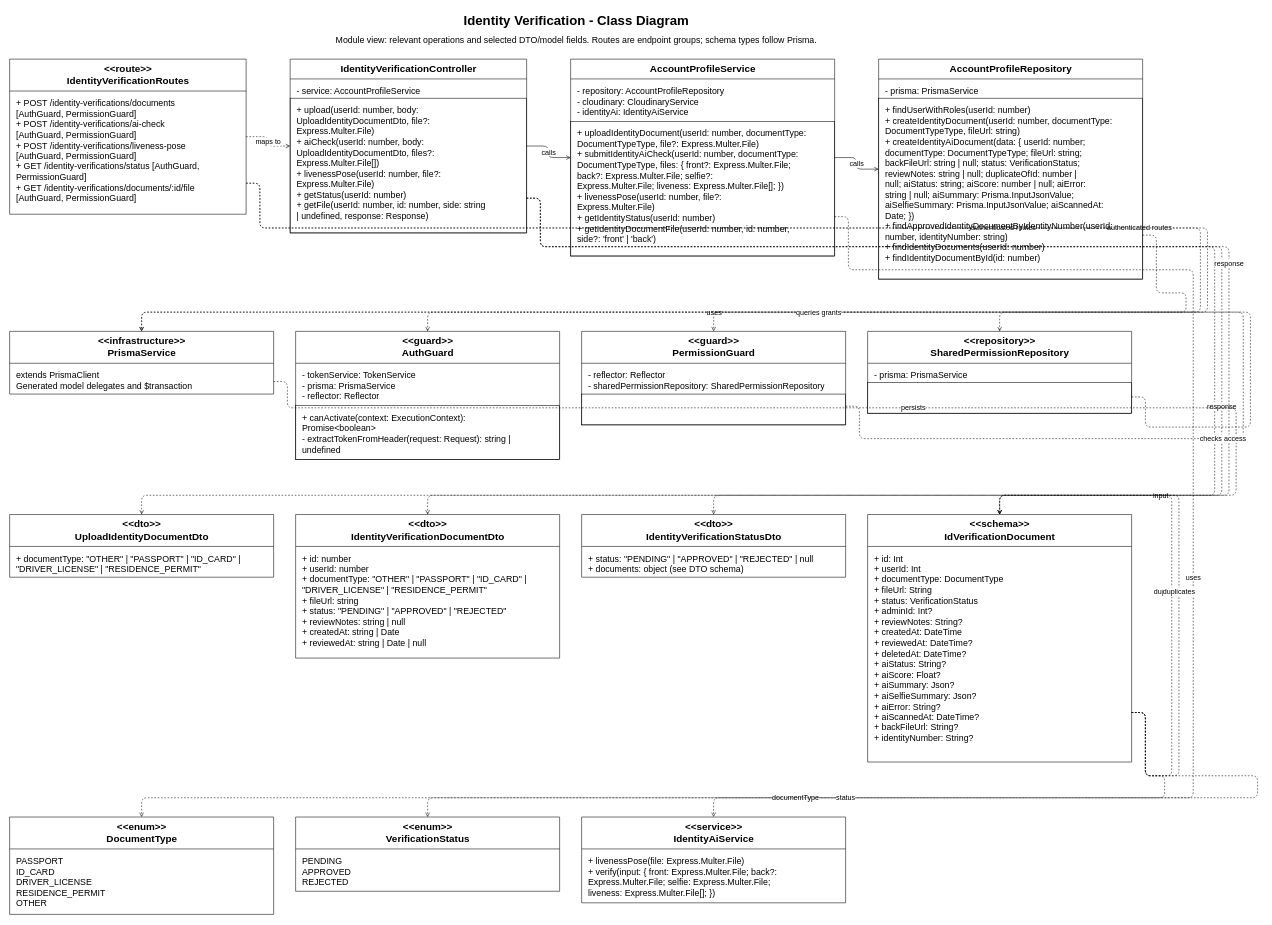
The diagram is 1272 pixels wide and 925 high, and some of its shapes have lost their labels. The centre of each missing label's shape, as x and y in pixels:
"+ canActivate(context: ExecutionContext): Promise<boolean>" belongs at [713,409].
"+ roleHasPermission(roleId: number, method: string, path: string)" belongs at [999,397].
